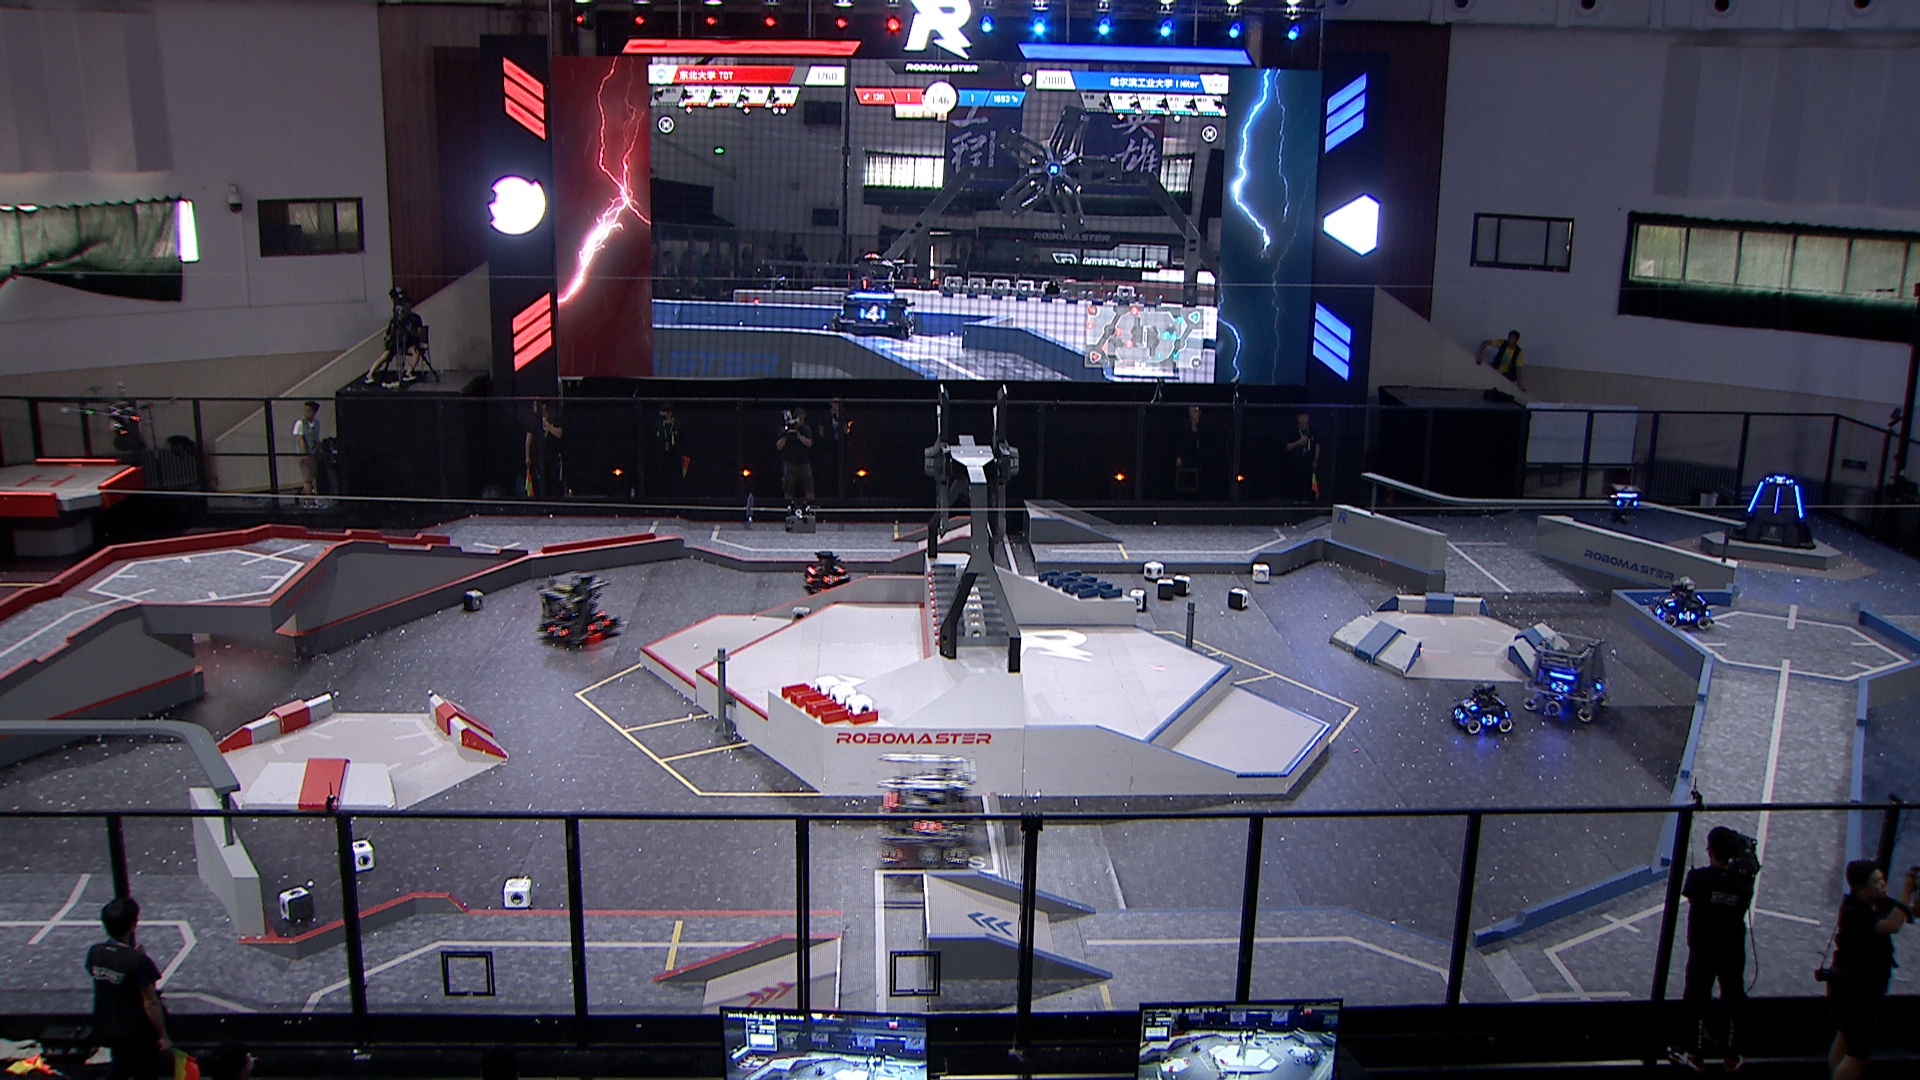armor: (1742, 477, 1766, 513), (1792, 481, 1807, 520), (1768, 484, 1784, 517), (910, 820, 945, 835), (1613, 495, 1640, 509), (585, 618, 611, 633), (1477, 712, 1501, 727), (1675, 609, 1698, 624), (546, 622, 567, 638), (1768, 473, 1793, 487), (1547, 679, 1569, 694), (1592, 676, 1609, 694), (820, 571, 840, 585), (1452, 705, 1466, 725), (1458, 698, 1476, 713), (831, 560, 847, 575), (1662, 593, 1677, 608), (1650, 603, 1665, 616)
base: (1724, 471, 1820, 553)
car: (876, 752, 986, 870), (1520, 632, 1609, 723), (534, 567, 622, 650), (1647, 574, 1718, 632), (1447, 680, 1514, 736), (802, 547, 852, 593)
ignore: (822, 251, 918, 344)
watcher: (1605, 480, 1643, 527)
